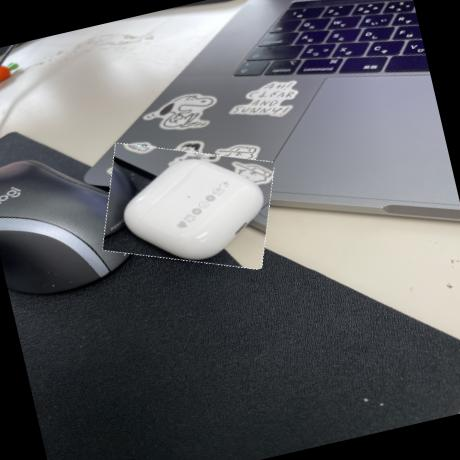airpod3: (89, 122, 288, 290)
